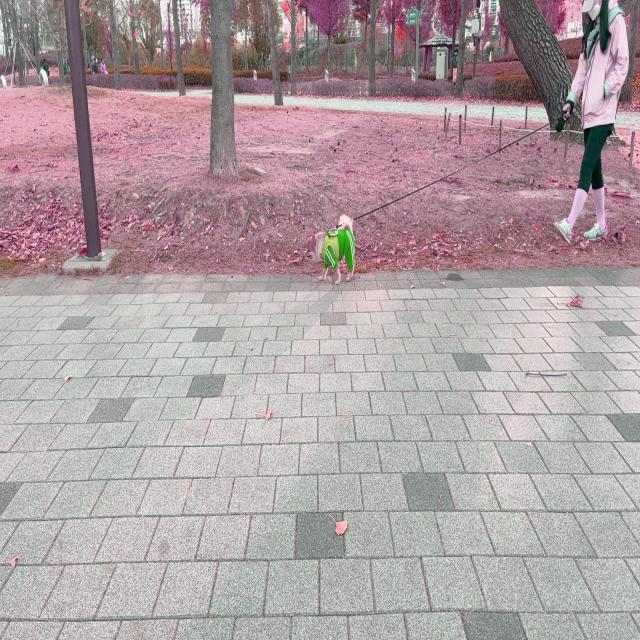Leashed_Dog: (302, 100, 591, 285)
